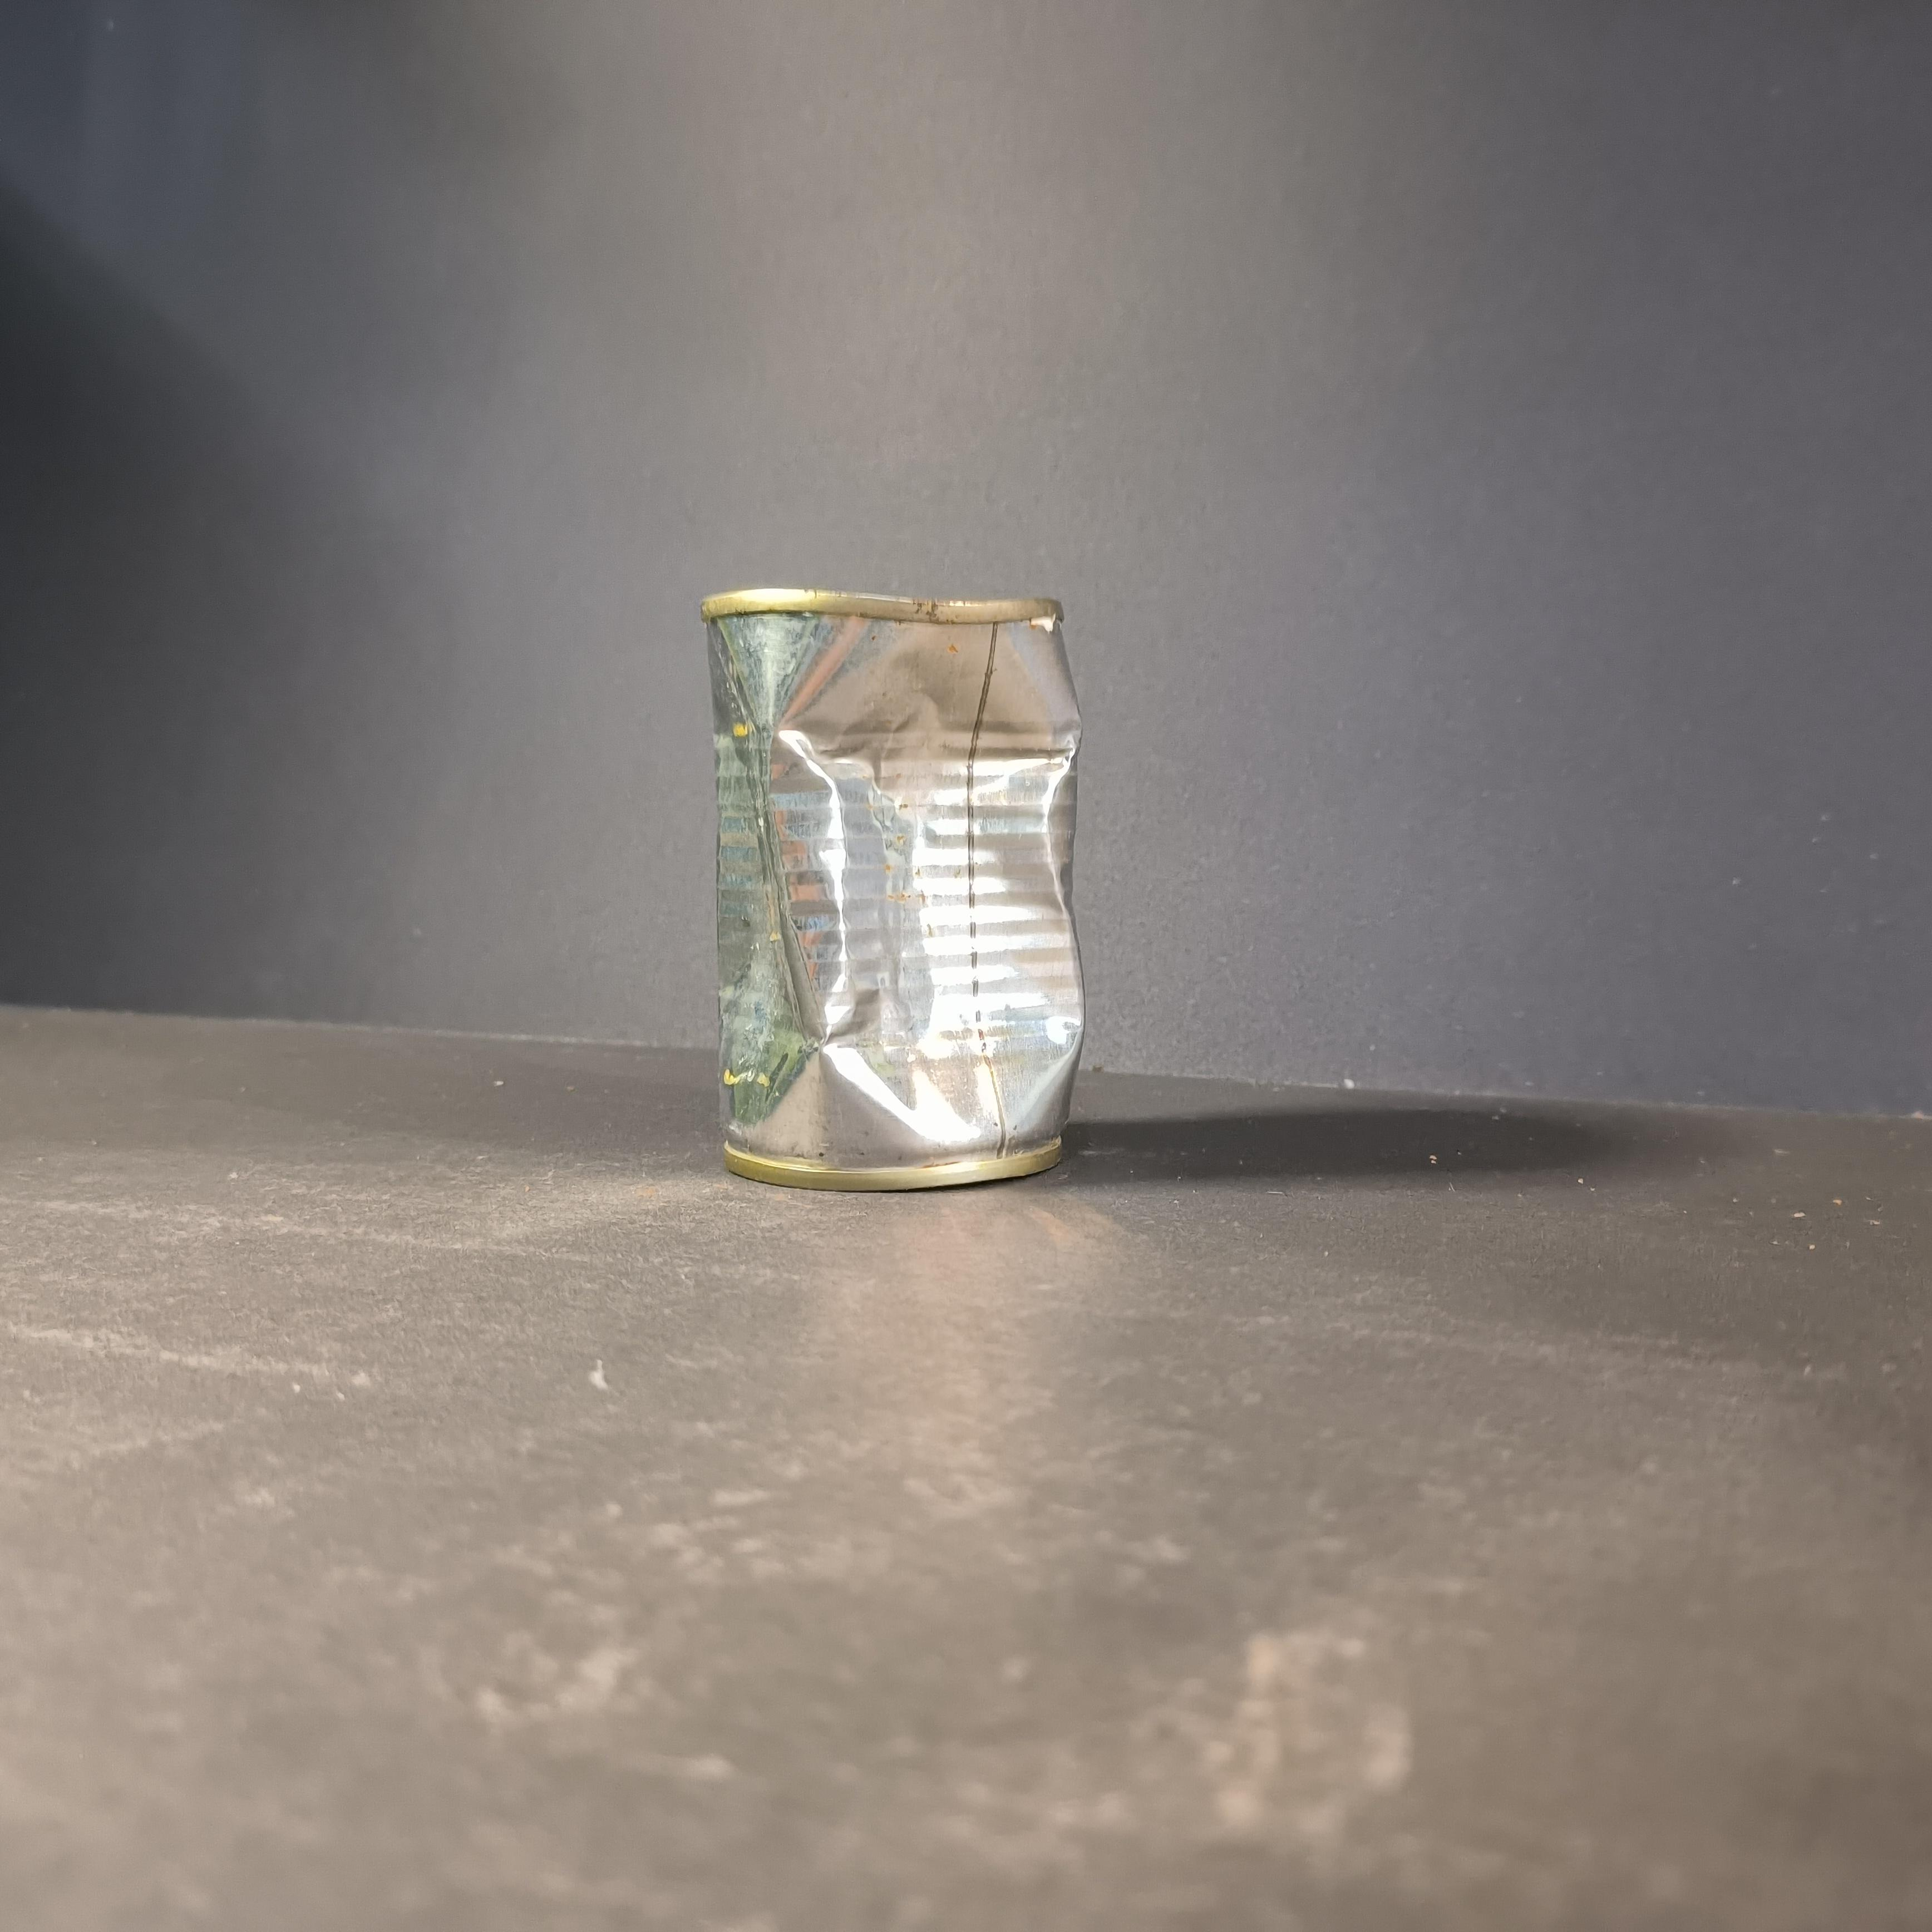Dented: (681, 554, 1116, 1219)
